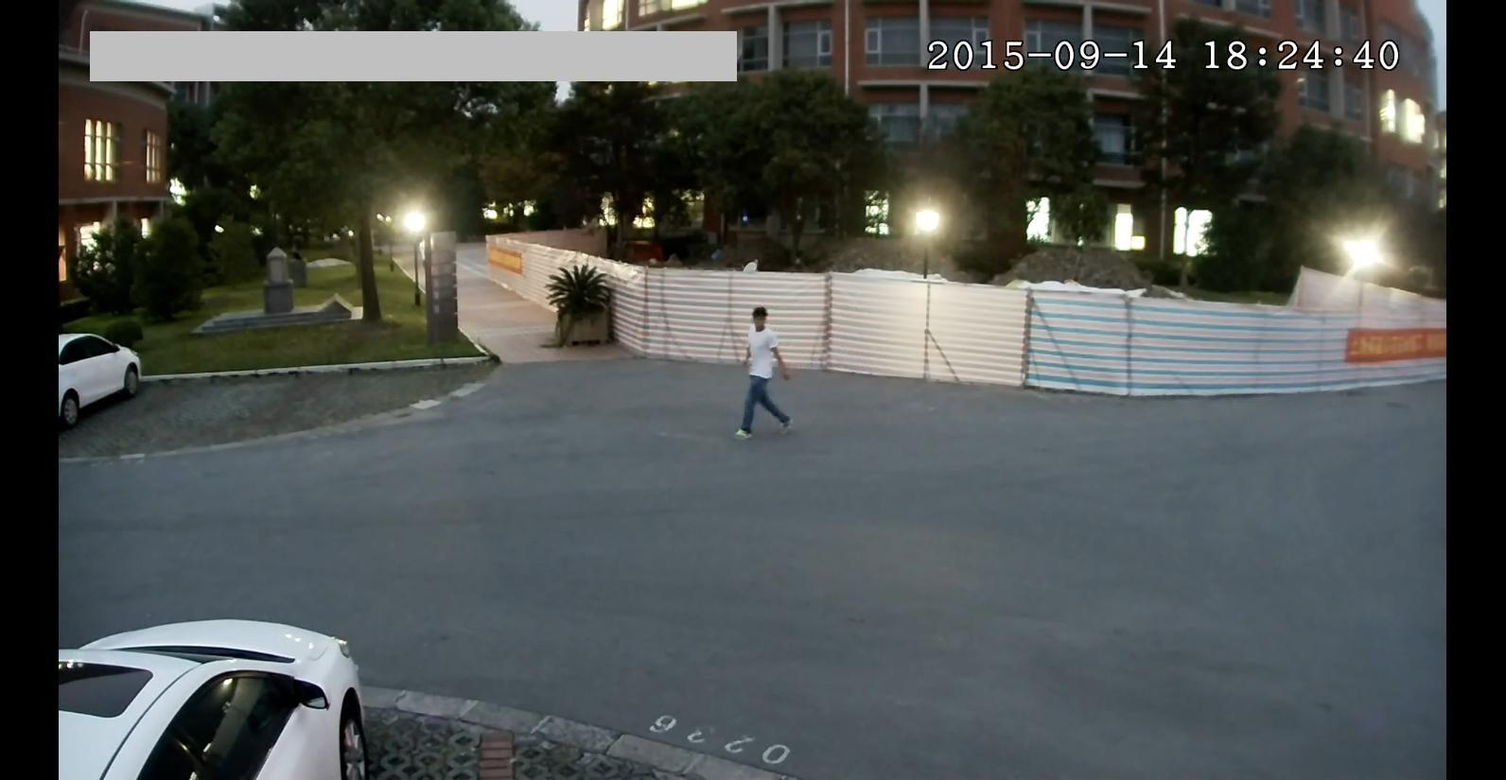person: (728, 301, 801, 454)
